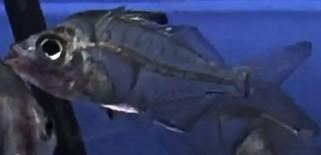Glass Perchlet: (3, 5, 316, 138)
